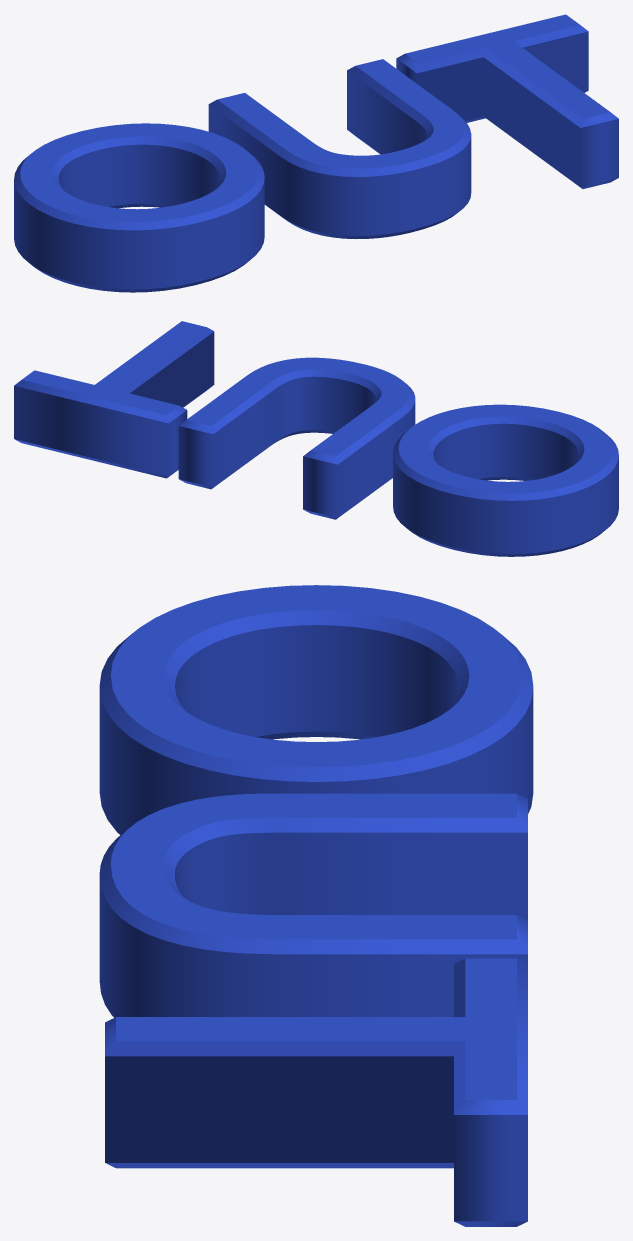
The picture shows the model from 3 angles, top to bottom: view 1: azimuth 30°, elevation 25°; view 2: azimuth 150°, elevation 25°; view 3: azimuth 270°, elevation 25°; orthographic projection. The views are drawn at different scales.
Parts seen in each view (by area): view 1: Text; view 2: Text; view 3: Text.
Boxes of the visible parts, box(x1,y1,x2,y2) form: Text: box(14, 14, 618, 292); Text: box(14, 321, 618, 556); Text: box(99, 585, 533, 1226).
Bounding box in the file's own units: 211 × 23.8 × 73.81.
